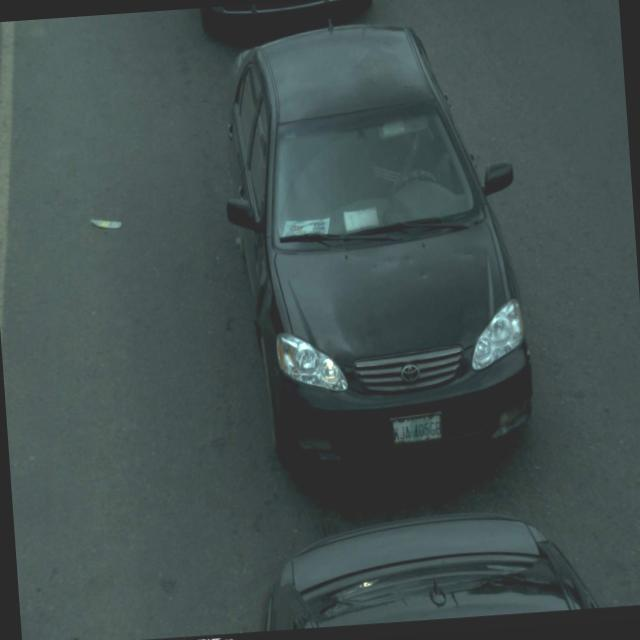windshield: (262, 98, 488, 247)
